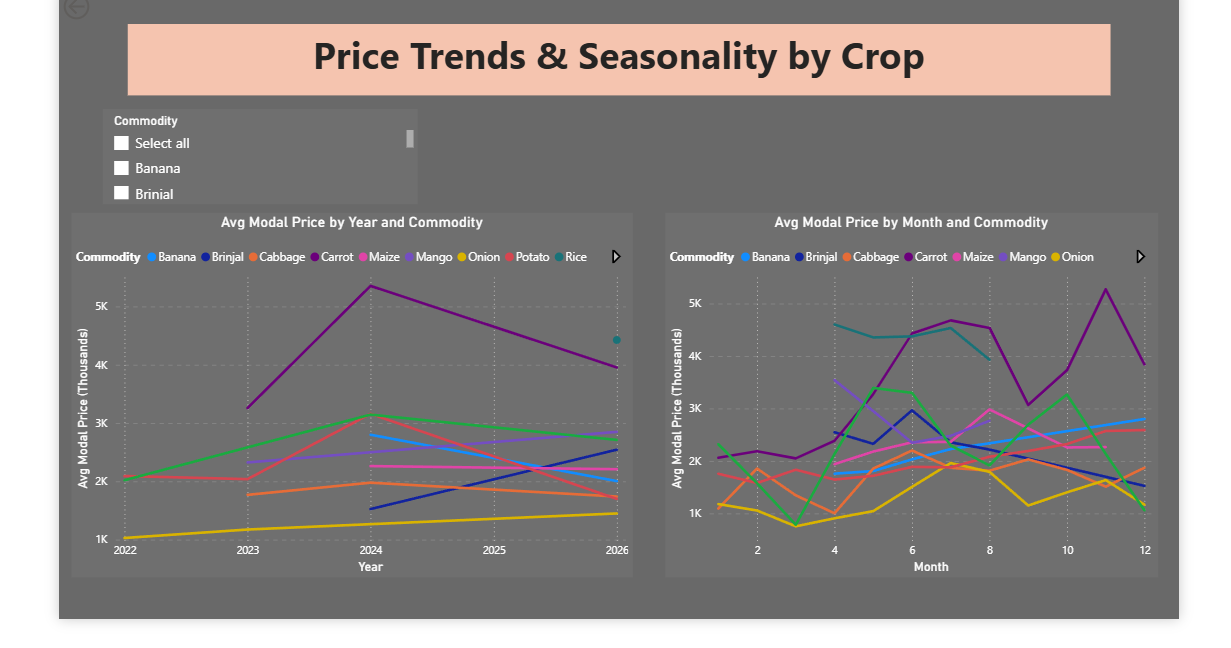

The page's visual inventory and layout, read from the dashboard file:
{"tool":"powerbi","page":{"name":"Price Trends","canvas":[1280,720],"ordinal":1},"visuals":[{"type":"lineChart","fields":{"Category":["agripriceintelligence_powerbi.Arrival_Date.Variation.Date Hierarchy.Year","agripriceintelligence_powerbi.Arrival_Date.Variation.Date Hierarchy.Quarter","agripriceintelligence_powerbi.Arrival_Date.Variation.Date Hierarchy.Month","agripriceintelligence_powerbi.Arrival_Date.Variation.Date Hierarchy.Day"],"Series":["agripriceintelligence_powerbi.Commodity"],"Y":["agripriceintelligence_powerbi.Avg Modal Price"]},"box":[14.3,255.7,641.4,417.1],"z":0},{"type":"lineChart","fields":{"Category":["agripriceintelligence_powerbi.Month"],"Series":["agripriceintelligence_powerbi.Commodity"],"Y":["agripriceintelligence_powerbi.Avg Modal Price"]},"box":[692.9,255.7,562.9,417.1],"z":1},{"type":"actionButton","box":[0,0,100,40],"z":2},{"type":"slicer","fields":{"Values":["agripriceintelligence_powerbi.Commodity"]},"box":[50,137.1,360,108.6],"z":3},{"type":"textbox","box":[78.6,40,1122.9,81.4],"z":4}]}

Visuals, with their boxes on the page's 1280x720 design canvas (x1, y1, x2, y2). These are canvas units, not pixel positions in the 1231x648 screenshot, which may show the page scaled, cropped or inside an application window:
lineChart - agripriceintelligence_powerbi.Arrival_Date.Variation.Date Hierarchy.Year x agripriceintelligence_powerbi.Arrival_Date.Variation.Date Hierarchy.Quarter: rect(14, 256, 656, 673)
lineChart - agripriceintelligence_powerbi.Month x agripriceintelligence_powerbi.Commodity: rect(693, 256, 1256, 673)
actionButton: rect(0, 0, 100, 40)
slicer - agripriceintelligence_powerbi.Commodity: rect(50, 137, 410, 246)
textbox: rect(79, 40, 1202, 121)
